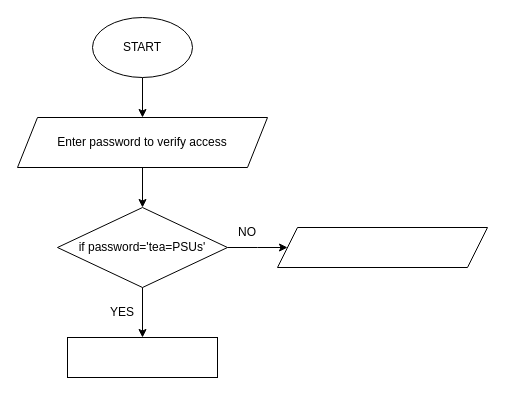
Some shapes in this 505 by 395 pixel diagram are drawn without their labels. The shapes that lost their labels are listed below. From the top down, each one's box as (x1, y1, x2, y2) in pixels, then its label:
(276, 226, 488, 268): You do not have access
(66, 336, 218, 378): verified
